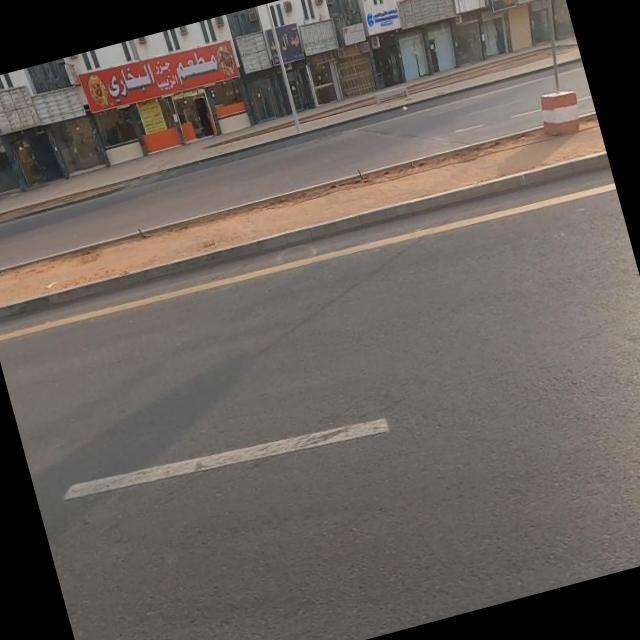debris: (463, 0, 546, 50)
